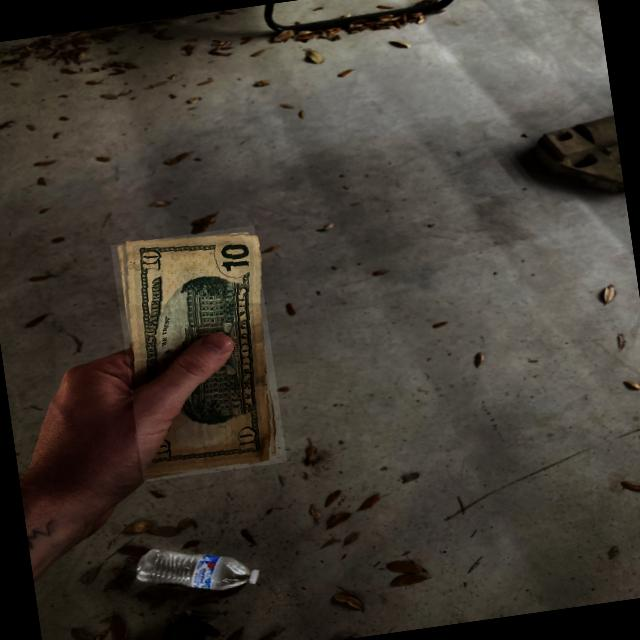ten: (111, 225, 288, 482)
